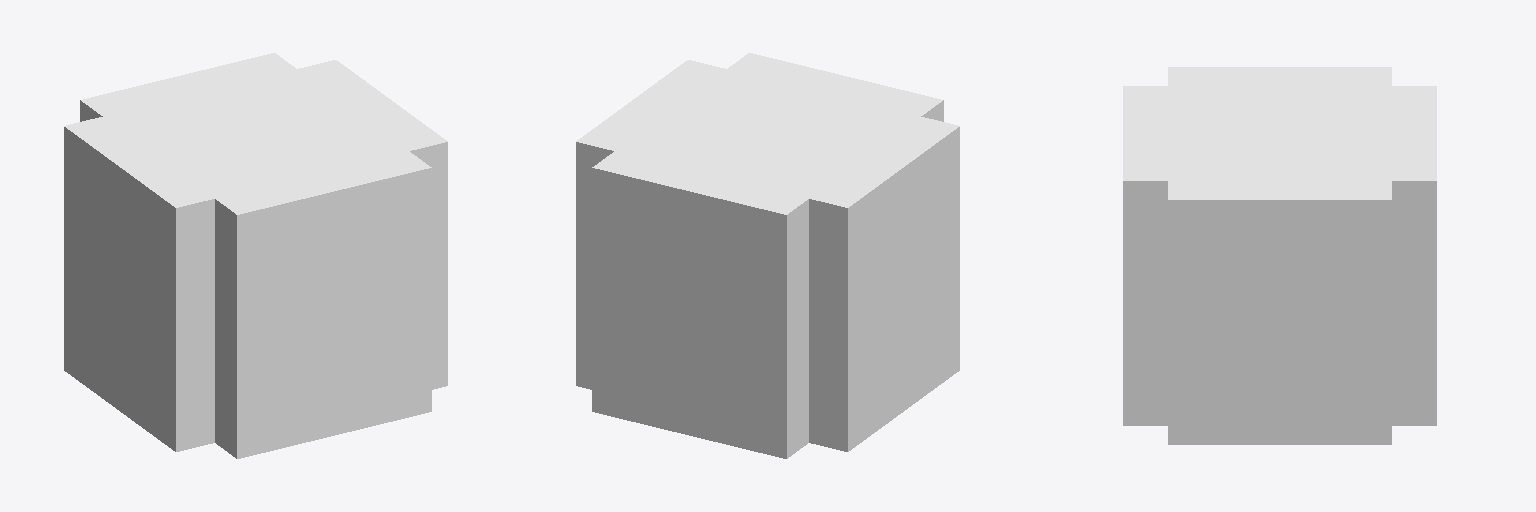
File: yellowBox.obj
The picture shows the model from 3 angles: view 1: azimuth 30°, elevation 25°; view 2: azimuth 150°, elevation 25°; view 3: azimuth 270°, elevation 25°; orthographic projection.
Visible parts, largest first — view 1: object 1; view 2: object 1; view 3: object 1.
Part boxes in pixels (bbox=[...]): object 1: bbox=[64, 53, 447, 458]; object 1: bbox=[576, 53, 959, 458]; object 1: bbox=[1123, 67, 1436, 444].
Size of the model in its own units: 3.5 by 3 by 3.5.